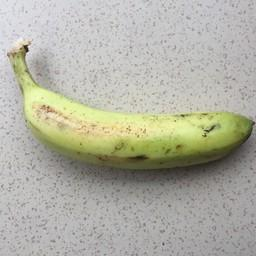Banana Ripe: (3, 75, 256, 178)
